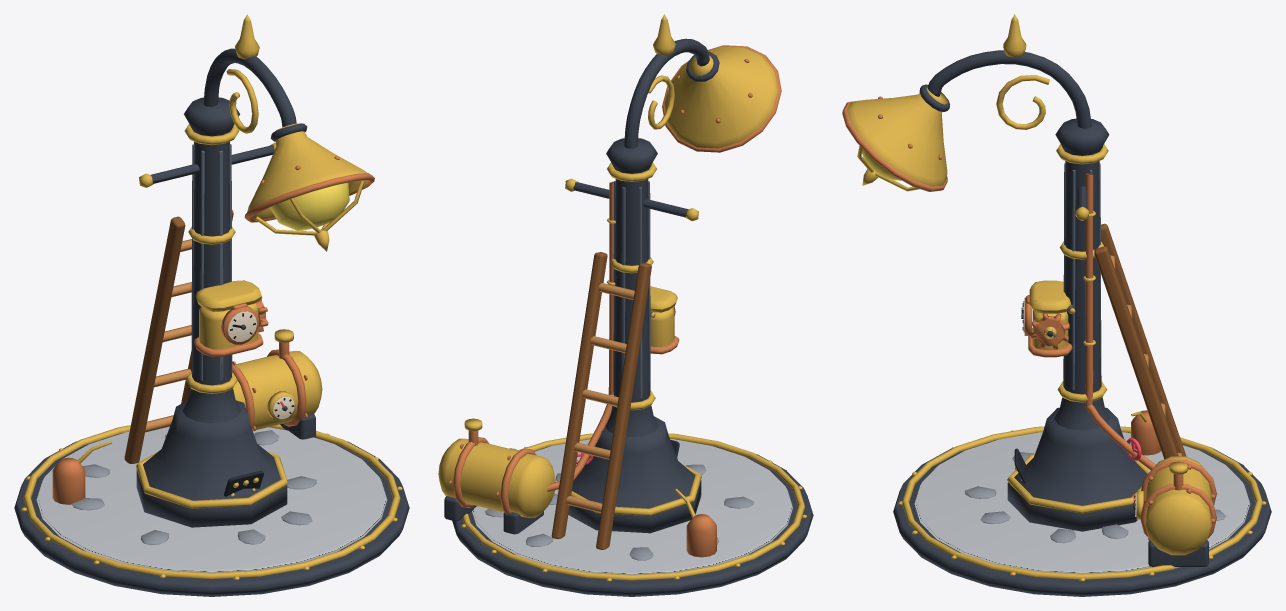
Rendered from HeatLamp_T2.fbx.
3 views of the same model, side by side, from view 1: azimuth 30°, elevation 25°; view 2: azimuth 150°, elevation 25°; view 3: azimuth 270°, elevation 25° (orthographic). The views are drawn at different scales.
Parts seen in each view (by area): view 1: HeatLampT2Deck, HeatLampT2Column, HeatLampT2Ladder, HeatLampT2LampHead, HeatLampT2Tank, HeatLampT2Clock, HeatLampT2Arm, HeatLampT2LampHeadGlow; view 2: HeatLampT2Deck, HeatLampT2Column, HeatLampT2Ladder, HeatLampT2Tank, HeatLampT2LampHead, HeatLampT2Arm, HeatLampT2Clock; view 3: HeatLampT2Deck, HeatLampT2Column, HeatLampT2Tank, HeatLampT2LampHead, HeatLampT2Ladder, HeatLampT2Arm, HeatLampT2Clock.
Part boxes in pixels (x1,y1,x2,y2): HeatLampT2Deck: [14, 424, 409, 596]; HeatLampT2Column: [136, 97, 287, 527]; HeatLampT2Ladder: [52, 210, 233, 504]; HeatLampT2LampHead: [244, 123, 374, 251]; HeatLampT2Tank: [232, 329, 322, 439]; HeatLampT2Clock: [194, 280, 268, 357]; HeatLampT2Arm: [203, 14, 296, 133]; HeatLampT2LampHeadGlow: [269, 182, 349, 230]; HeatLampT2Deck: [452, 433, 813, 596]; HeatLampT2Column: [565, 138, 701, 533]; HeatLampT2Ladder: [551, 252, 716, 557]; HeatLampT2Tank: [438, 181, 615, 534]; HeatLampT2LampHead: [662, 45, 781, 152]; HeatLampT2Arm: [624, 14, 709, 148]; HeatLampT2Clock: [650, 286, 679, 354]; HeatLampT2Deck: [893, 426, 1271, 596]; HeatLampT2Column: [1007, 118, 1150, 531]; HeatLampT2Tank: [1083, 173, 1216, 566]; HeatLampT2LampHead: [842, 84, 949, 191]; HeatLampT2Ladder: [1094, 223, 1186, 459]; HeatLampT2Arm: [927, 14, 1091, 129]; HeatLampT2Clock: [1021, 280, 1075, 357].
Size of the model in its own units: 153 by 225 by 174.
